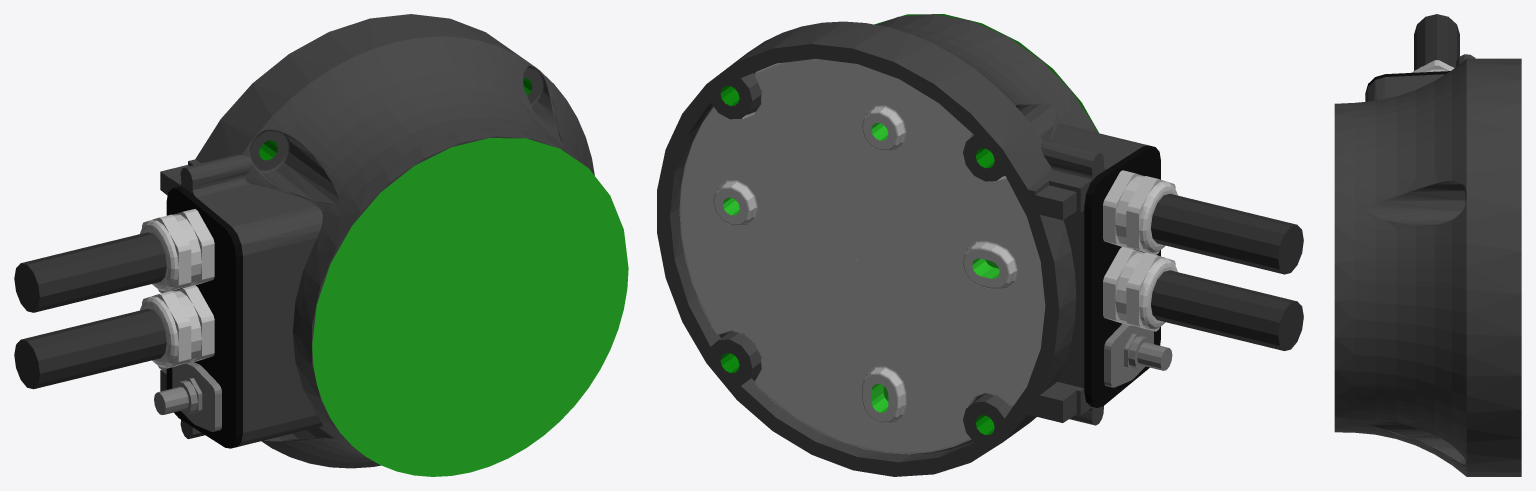
3 views of the same model, side by side, from view 1: azimuth 30°, elevation 25°; view 2: azimuth 150°, elevation 25°; view 3: azimuth 270°, elevation 25° (orthographic). The views are drawn at different scales.
Parts seen in each view (by area): view 1: node; view 2: node; view 3: node.
Part boxes in pixels (x1,y1,x2,y2): node: (14,14,628,476); node: (657,14,1303,476); node: (1334,14,1521,476).
Size of the model in its own units: 277 by 190 by 86.1.
